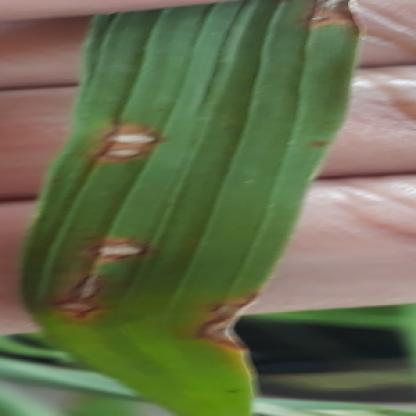Rice blast: (52, 224, 147, 342), (93, 113, 172, 176), (194, 287, 258, 357)
